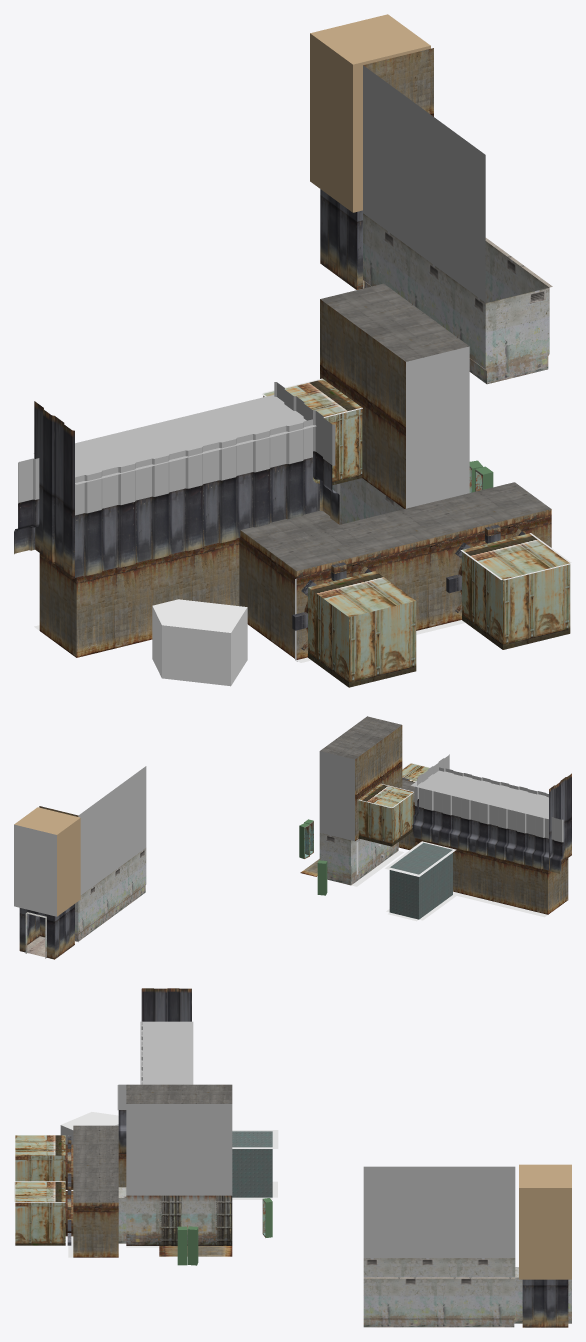
The model's file is gen.dae.
The picture shows the model from 3 angles, top to bottom: view 1: azimuth 30°, elevation 25°; view 2: azimuth 150°, elevation 25°; view 3: azimuth 270°, elevation 25°; orthographic projection. The views are drawn at different scales.
Visible parts, largest first — view 1: group_18 (×5), group_7 (×4), group_20 (×4), group_0, group_2, group_1, group_5, convex, corrugation_1, group_13, group_8 (×2), group_4 (×2); view 2: group_18 (×5), group_20 (×4), group_4 (×2), group_0, group_10 (×2), group_13, group_5, corrugation_1, box_locker (×2), group_7, wall, group_1; view 3: group_18 (×4), group_20 (×4), group_7, group_5, group_1, group_10, group_0, group_2, corrugation_1, box_locker (×2), convex, group_11.
Boxes of the visible parts, bbox=[...] form: group_18 (×5): bbox=[310, 14, 549, 384]; group_7 (×4): bbox=[75, 419, 551, 578]; group_20 (×4): bbox=[320, 283, 469, 524]; group_0: bbox=[39, 516, 551, 659]; group_2: bbox=[308, 571, 416, 687]; group_1: bbox=[462, 533, 570, 649]; group_5: bbox=[33, 395, 316, 484]; convex: bbox=[152, 599, 247, 686]; corrugation_1: bbox=[34, 401, 74, 578]; group_13: bbox=[263, 379, 362, 485]; group_8 (×2): bbox=[313, 410, 339, 524]; group_4 (×2): bbox=[14, 458, 39, 554]; group_18 (×5): bbox=[14, 766, 146, 959]; group_20 (×4): bbox=[319, 716, 402, 885]; group_4 (×2): bbox=[412, 786, 563, 873]; group_0: bbox=[398, 806, 568, 914]; group_10 (×2): bbox=[385, 841, 456, 919]; group_13: bbox=[358, 784, 413, 846]; group_5: bbox=[411, 770, 548, 818]; corrugation_1: bbox=[549, 773, 571, 870]; box_locker (×2): bbox=[299, 823, 327, 895]; group_7: bbox=[439, 767, 548, 797]; wall: bbox=[453, 891, 547, 917]; group_1: bbox=[402, 763, 429, 782]; group_18 (×4): bbox=[363, 1164, 571, 1327]; group_20 (×4): bbox=[118, 1084, 232, 1245]; group_7: bbox=[73, 1125, 118, 1202]; group_5: bbox=[140, 1021, 193, 1084]; group_1: bbox=[15, 1182, 65, 1245]; group_10: bbox=[232, 1131, 272, 1197]; group_0: bbox=[73, 1154, 126, 1257]; group_2: bbox=[15, 1135, 65, 1181]; corrugation_1: bbox=[141, 988, 191, 1021]; box_locker (×2): bbox=[177, 1226, 198, 1265]; convex: bbox=[60, 1112, 118, 1144]; group_11: bbox=[159, 1246, 232, 1256].
Size of the model in its own units: 759 by 870 by 251.
